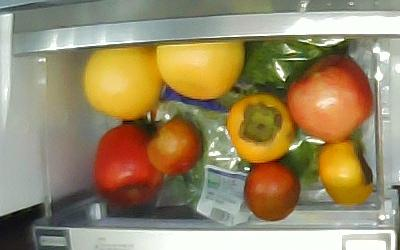apple: (286, 52, 372, 144), (93, 125, 162, 204)
grapefruit: (85, 46, 164, 121), (157, 40, 245, 100)
persimmon: (226, 93, 293, 163)
prune: (316, 139, 372, 205), (146, 116, 203, 175), (243, 163, 300, 220)
